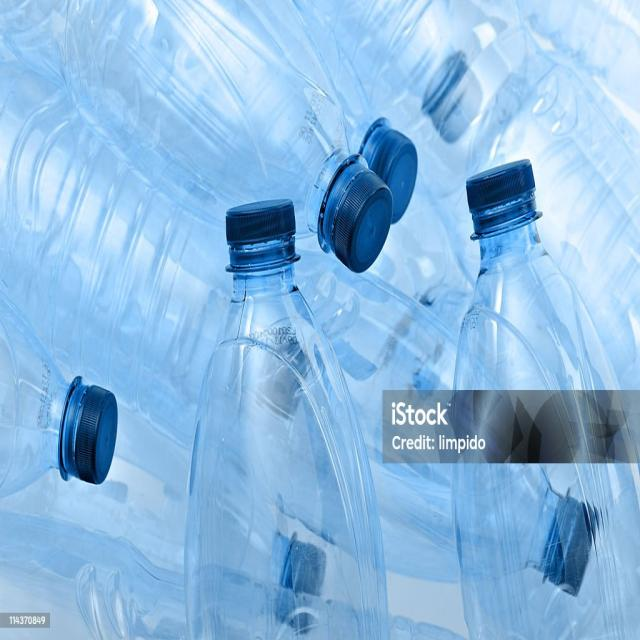blue_bottle: (183, 201, 395, 635), (451, 154, 637, 632), (4, 275, 115, 501)
